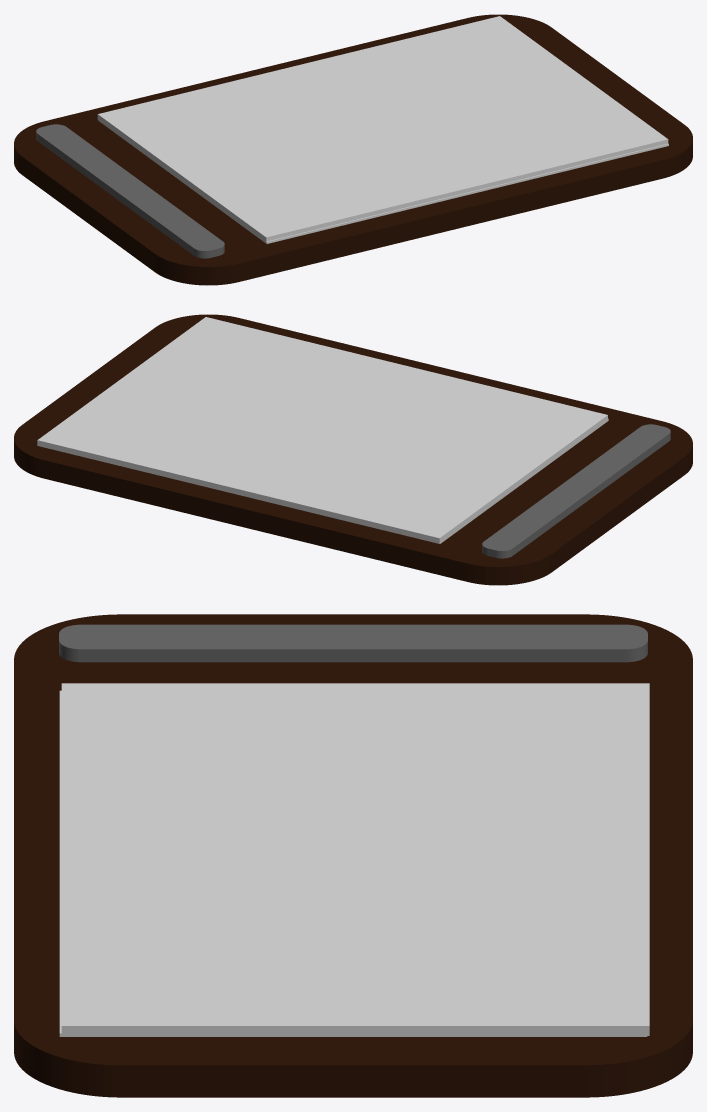
File: zombie.glb
The picture shows the model from 3 angles, top to bottom: view 1: azimuth 30°, elevation 25°; view 2: azimuth 150°, elevation 25°; view 3: azimuth 270°, elevation 25°; orthographic projection. The views are drawn at different scales.
Parts seen in each view (by area): view 1: Cube.003, Cube, Cube.004, Cube.001, Cube.002; view 2: Cube.003, Cube, Cube.004, Cube.002; view 3: Cube.003, Cube, Cube.004, Cube.001, Cube.002.
Boxes of the visible parts, x1,y1,x2,y2 form: Cube.003: [97, 16, 668, 240]; Cube: [14, 14, 692, 285]; Cube.004: [36, 124, 224, 258]; Cube.001: [98, 119, 668, 243]; Cube.002: [97, 117, 668, 241]; Cube.003: [37, 317, 607, 541]; Cube: [14, 314, 692, 585]; Cube.004: [482, 424, 670, 558]; Cube.002: [37, 418, 607, 543]; Cube.003: [61, 683, 649, 1031]; Cube: [14, 614, 692, 1097]; Cube.004: [59, 624, 647, 662]; Cube.001: [59, 690, 647, 1036]; Cube.002: [61, 1030, 649, 1035].
Bounding box in the file's own units: 4.83 × 0.2255 × 3.07.
